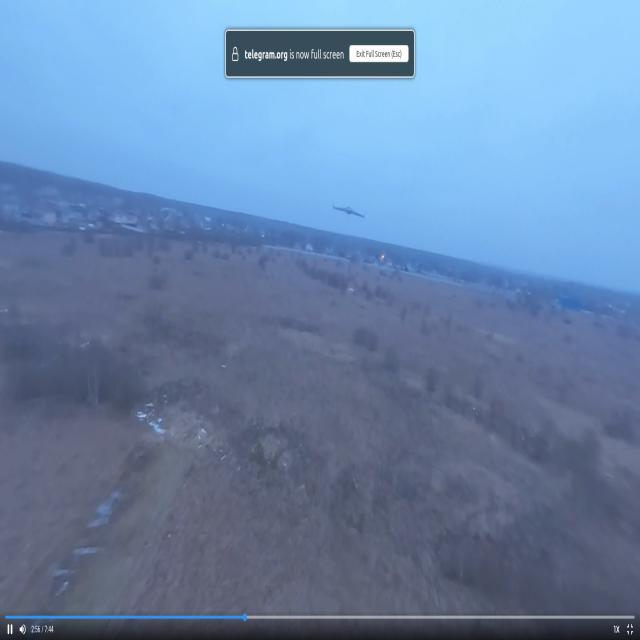planedrone: (331, 194, 365, 219)
